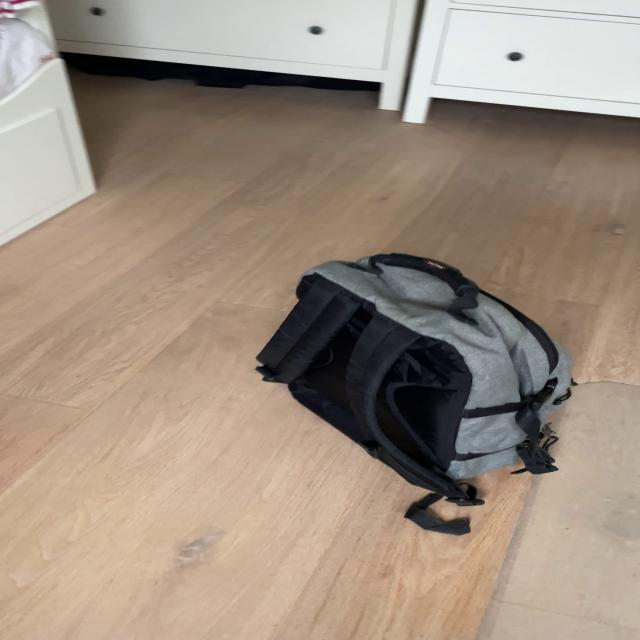backpack: (242, 237, 585, 501)
